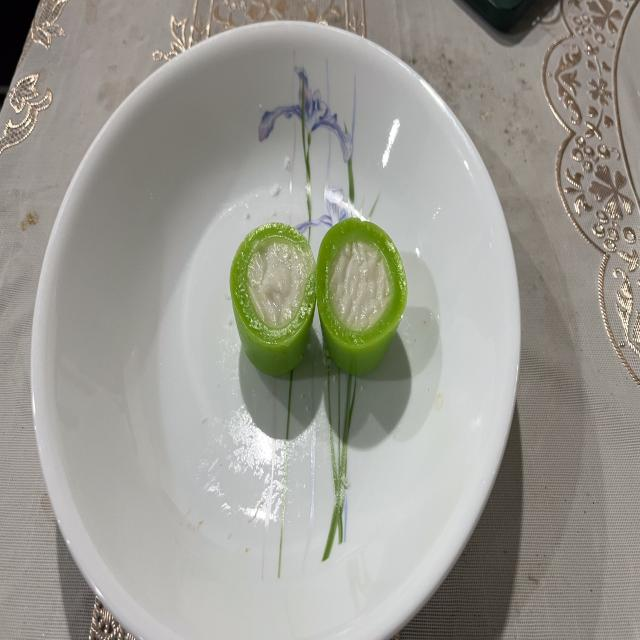nona-manis: (318, 218, 408, 376), (230, 222, 316, 376)
